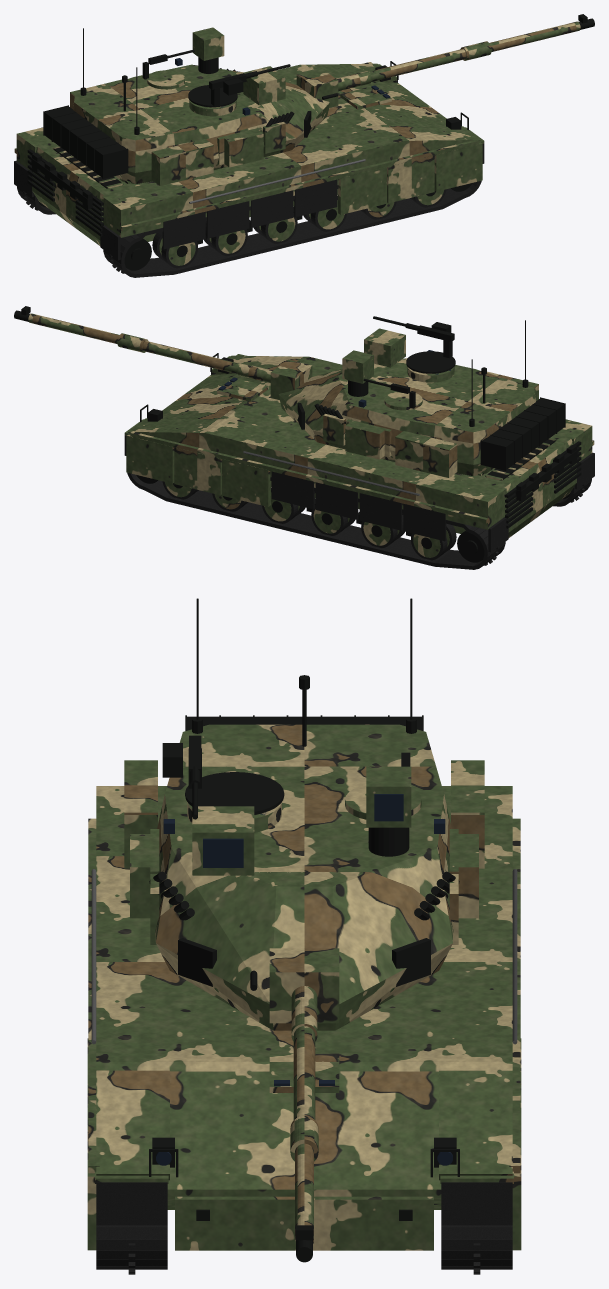
Rendered from k2_black_panther.obj.
3 views of the same model, one above another, from view 1: azimuth 30°, elevation 25°; view 2: azimuth 150°, elevation 25°; view 3: azimuth 270°, elevation 25° (orthographic). The views are drawn at different scales.
Parts seen in each view (by area): view 1: Hull_camo, Turret_camo, Hull_rubber, Turret_dark, Hull_dark, Gun_camo, Hull_metal; view 2: Hull_camo, Turret_camo, Hull_rubber, Turret_dark, Hull_dark, Gun_camo, Hull_metal; view 3: Hull_camo, Turret_camo, Turret_dark, Hull_rubber, Gun_camo, Turret_glass, Hull_metal, Hull_dark.
Part boxes in pixels (<box>): Hull_camo: <box>14,62,484,265</box>; Turret_camo: <box>70,27,330,185</box>; Hull_rubber: <box>14,80,484,277</box>; Turret_dark: <box>43,28,311,178</box>; Hull_dark: <box>27,61,472,270</box>; Gun_camo: <box>296,21,580,107</box>; Hull_metal: <box>189,159,365,203</box>; Hull_camo: <box>124,354,594,557</box>; Turret_camo: <box>278,328,538,477</box>; Hull_rubber: <box>124,372,594,569</box>; Turret_dark: <box>297,316,565,470</box>; Hull_dark: <box>136,353,581,562</box>; Gun_camo: <box>28,313,312,399</box>; Hull_metal: <box>243,451,419,495</box>; Hull_camo: <box>87,786,521,1250</box>; Turret_camo: <box>124,724,484,1030</box>; Turret_dark: <box>149,598,459,986</box>; Hull_rubber: <box>96,1182,512,1274</box>; Gun_camo: <box>269,948,339,1243</box>; Turret_glass: <box>163,794,445,867</box>; Hull_metal: <box>91,869,517,1044</box>; Hull_dark: <box>149,1137,459,1220</box>.
Bounding box in the file's own units: 10.94 × 3.8 × 3.85.
Materials: 5 (3 with a texture image).
